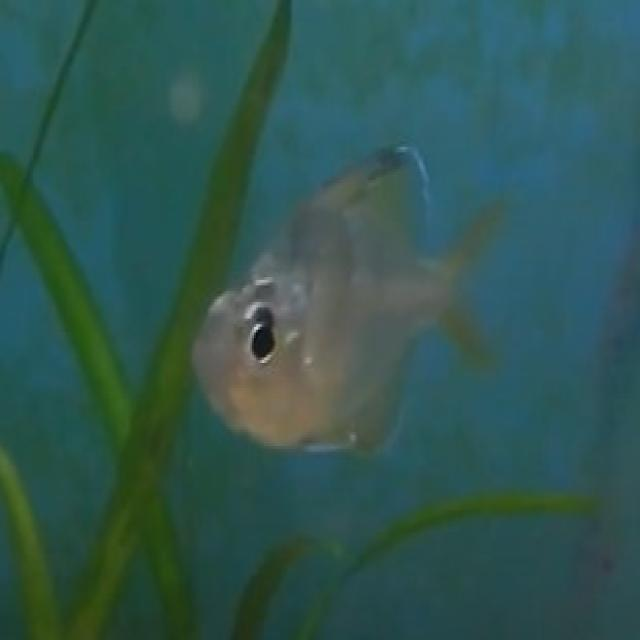Glass-Perchlet: (178, 135, 505, 495)
